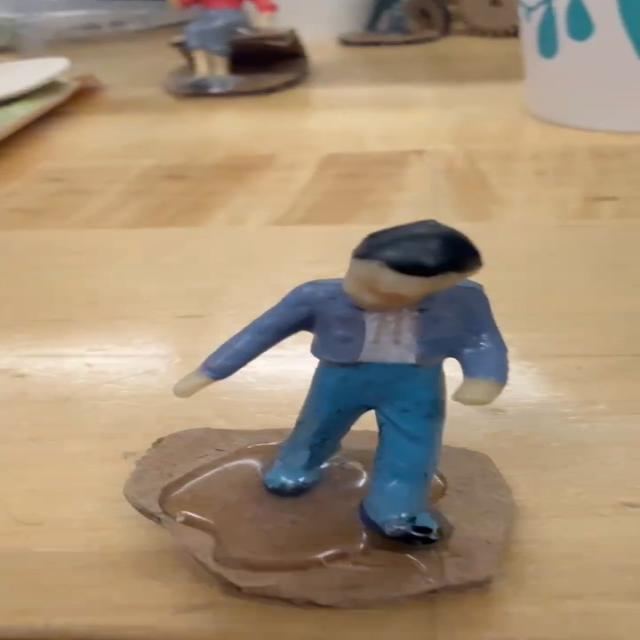Authorized: (140, 195, 533, 571)
